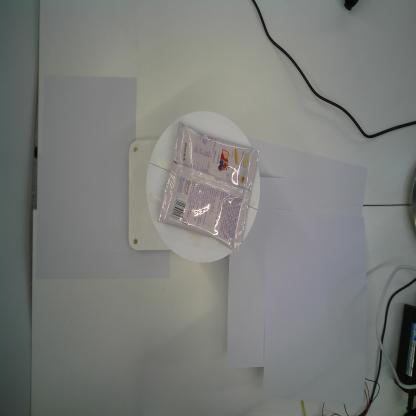Instant Drink: (156, 121, 260, 254)
